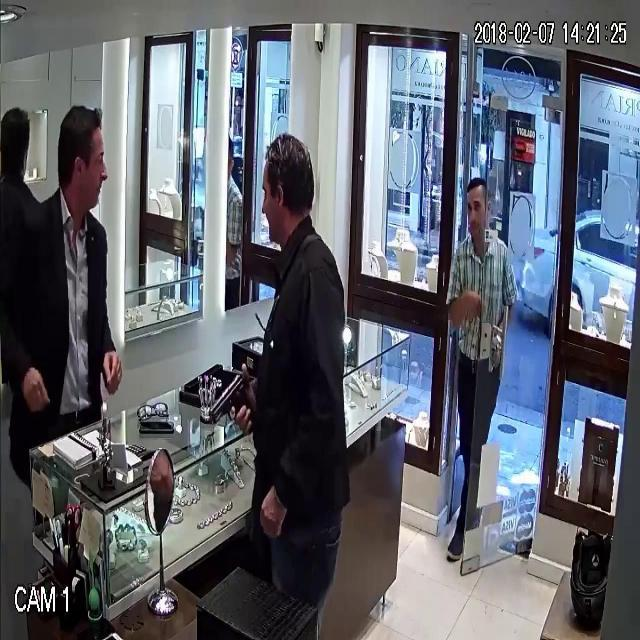weapon: (204, 344, 268, 444)
